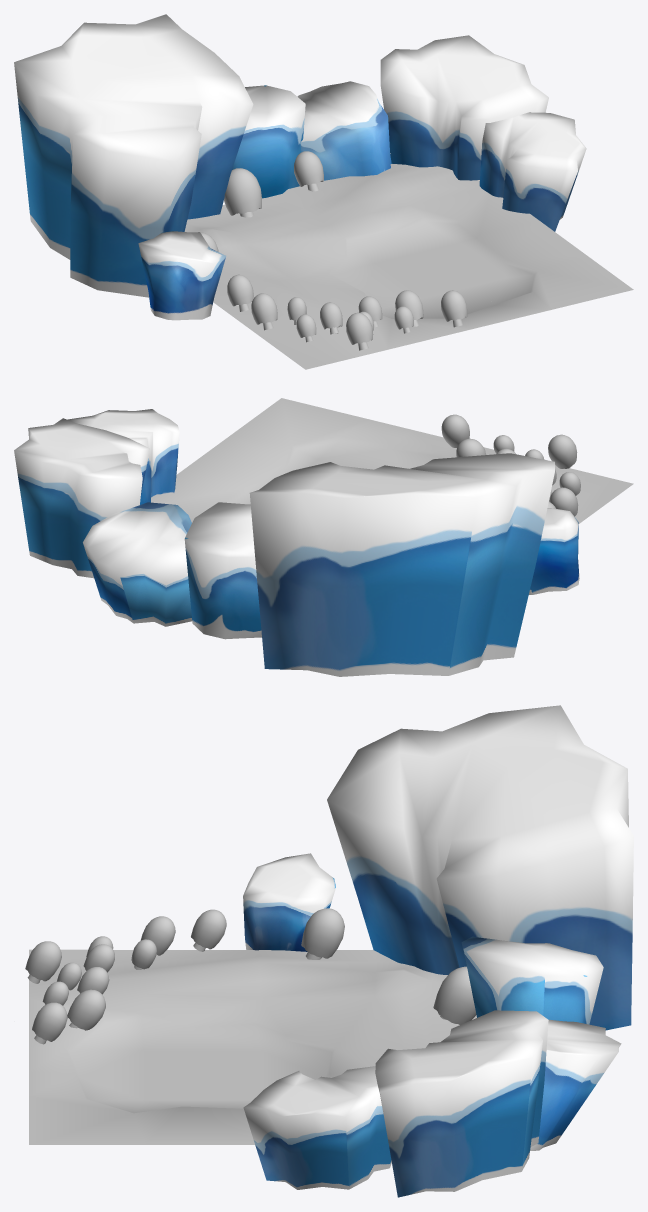
Rendered from Map_1_C_1.FBX.
3 views of the same model, one above another, from view 1: azimuth 30°, elevation 25°; view 2: azimuth 150°, elevation 25°; view 3: azimuth 270°, elevation 25° (orthographic). The views are drawn at different scales.
Parts seen in each view (by area): view 1: tereno2, Iceberg018, Iceberg011, Iceberg016, Iceberg017, Iceberg014, Iceberg009, Icethree028, Icethree027, Icethree049, Icethree073, Icethree065 (+3 smaller); view 2: Iceberg018, tereno2, Iceberg011, Iceberg017, Iceberg009, Iceberg016, Iceberg014, Icethree049, Icethree056, Icethree065, Icethree031; view 3: Iceberg018, tereno2, Iceberg011, Iceberg016, Iceberg009, Iceberg014, Iceberg017, Icethree028, Icethree043, Icethree031, Icethree049, Icethree073 (+2 smaller).
Part boxes in pixels (left/top/right/bottom): tereno2: left=184, top=164, right=633, bottom=369; Iceberg018: left=14, top=14, right=253, bottom=297; Iceberg011: left=380, top=35, right=548, bottom=180; Iceberg016: left=479, top=112, right=586, bottom=231; Iceberg017: left=297, top=81, right=391, bottom=180; Iceberg014: left=138, top=231, right=226, bottom=320; Iceberg009: left=232, top=85, right=305, bottom=198; Icethree028: left=224, top=168, right=261, bottom=217; Icethree027: left=294, top=151, right=323, bottom=191; Icethree049: left=346, top=312, right=373, bottom=350; Icethree073: left=227, top=274, right=253, bottom=311; Icethree065: left=251, top=293, right=277, bottom=330; Iceberg018: left=249, top=453, right=554, bottom=676; tereno2: left=151, top=398, right=633, bottom=523; Iceberg011: left=14, top=418, right=149, bottom=578; Iceberg017: left=83, top=502, right=192, bottom=626; Iceberg009: left=184, top=502, right=261, bottom=639; Iceberg016: left=67, top=409, right=179, bottom=504; Iceberg014: left=529, top=508, right=579, bottom=594; Icethree049: left=548, top=434, right=577, bottom=468; Icethree056: left=441, top=414, right=469, bottom=447; Icethree065: left=549, top=487, right=578, bottom=516; Icethree031: left=456, top=438, right=486, bottom=457; Iceberg018: left=327, top=705, right=633, bottom=1030; tereno2: left=29, top=949, right=476, bottom=1144; Iceberg011: left=375, top=1010, right=548, bottom=1197; Iceberg016: left=243, top=1066, right=391, bottom=1189; Iceberg009: left=461, top=936, right=603, bottom=1024; Iceberg014: left=243, top=853, right=335, bottom=951; Iceberg017: left=530, top=1019, right=621, bottom=1150; Icethree028: left=433, top=966, right=476, bottom=1024; Icethree043: left=301, top=908, right=344, bottom=959; Icethree031: left=67, top=989, right=105, bottom=1030; Icethree049: left=25, top=941, right=61, bottom=983; Icethree073: left=191, top=909, right=226, bottom=951.
Bounding box in the file's own units: 729 × 296 × 672.
